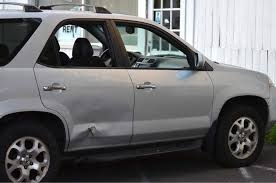Dent: (62, 111, 113, 150)
